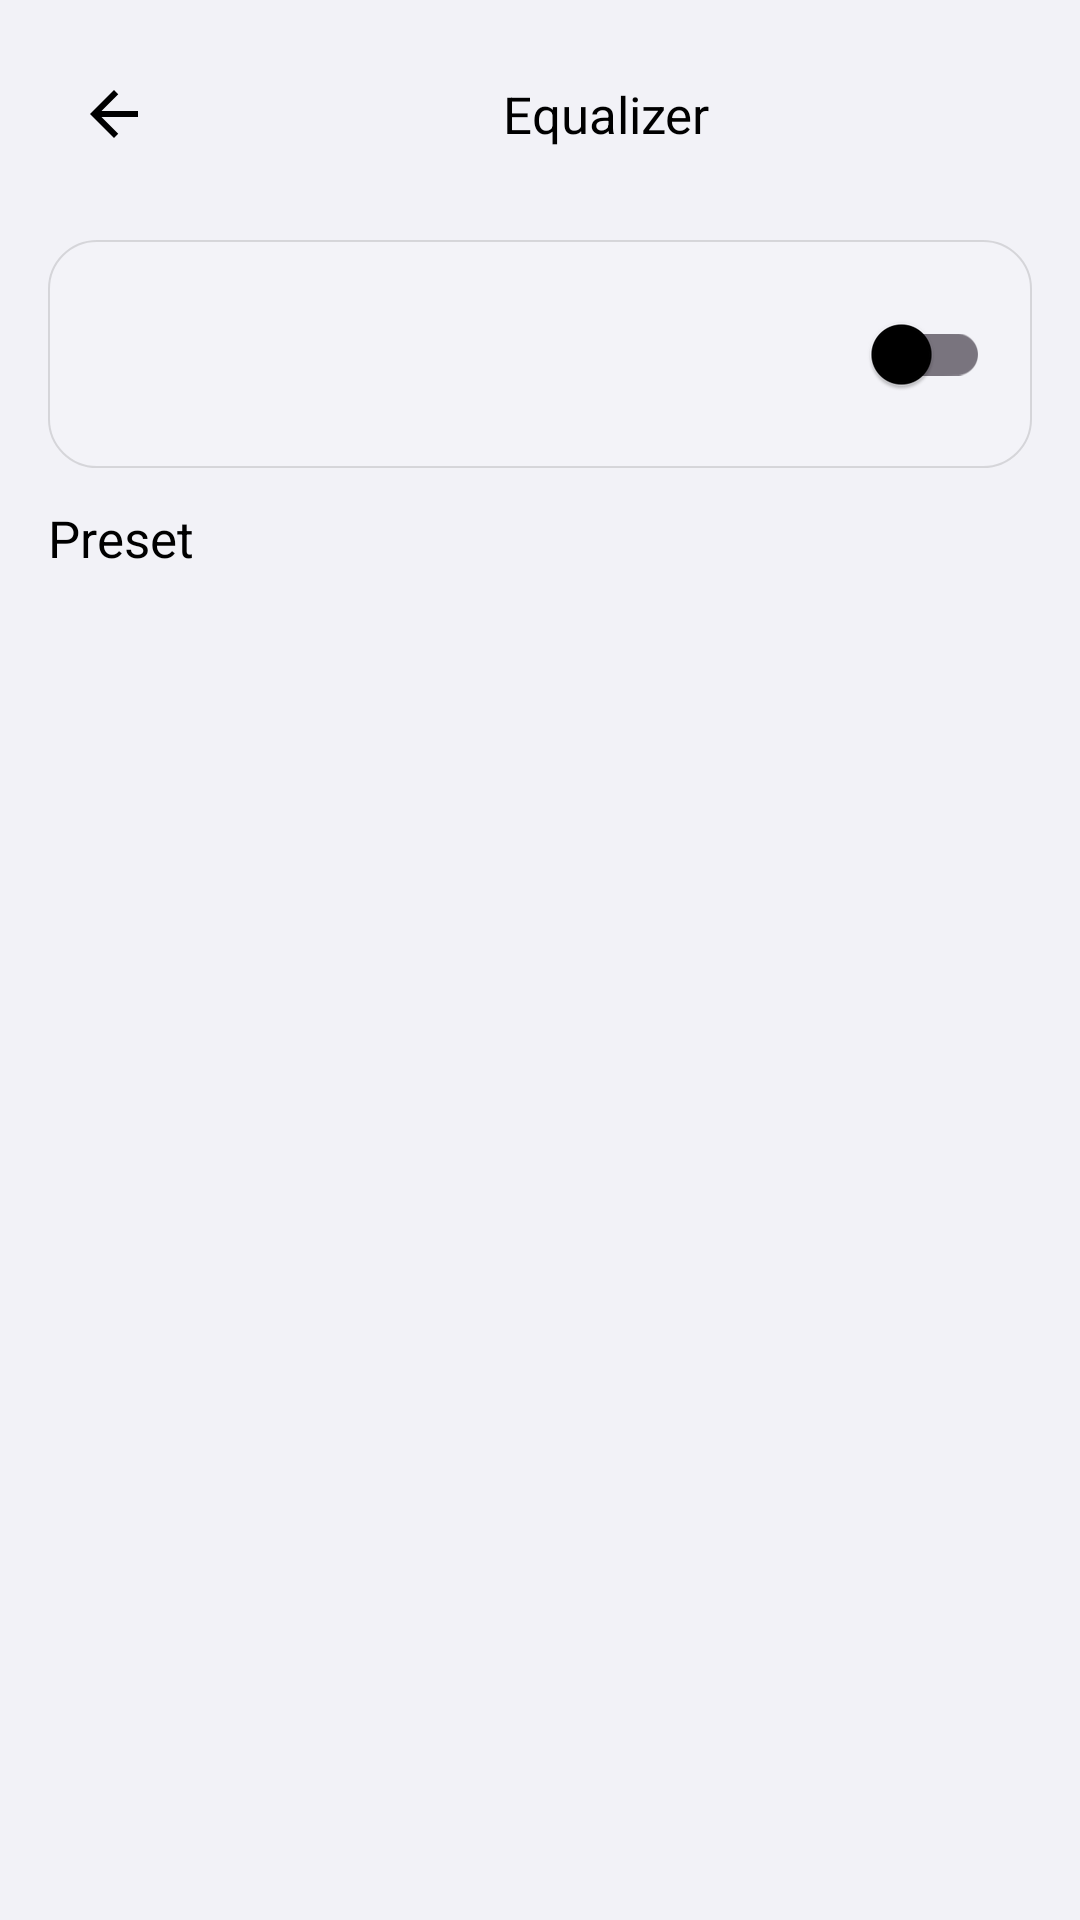

Named icons in this screenshot (1080×1920) and their bounding boxes, (x1, y1, x2, y2):
Go back: (90, 90, 138, 138)
